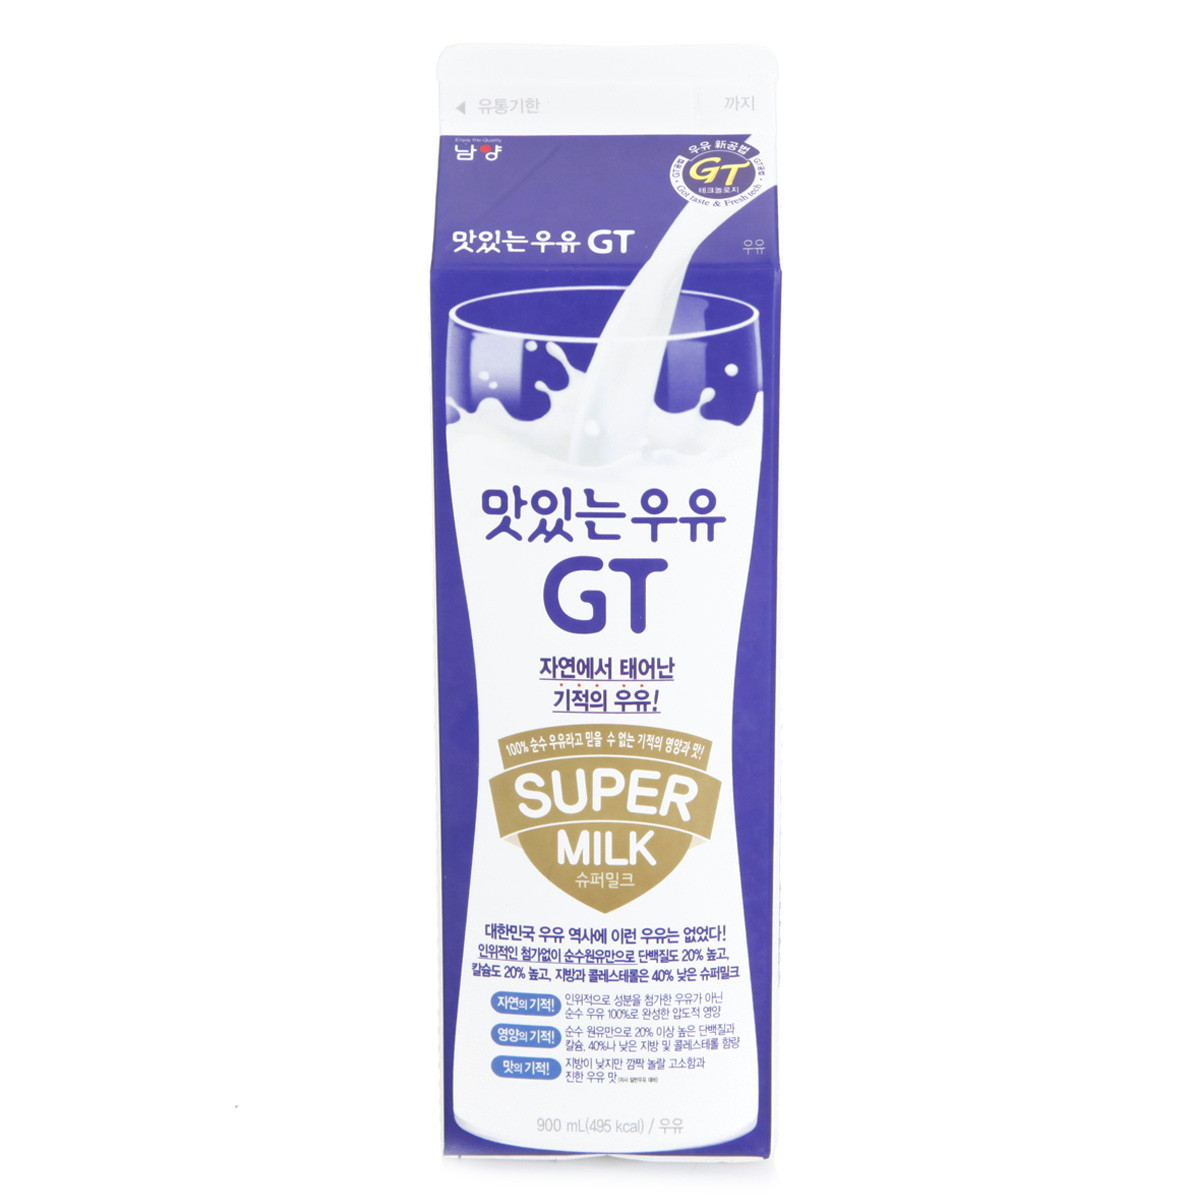milk: (426, 44, 785, 1163)
